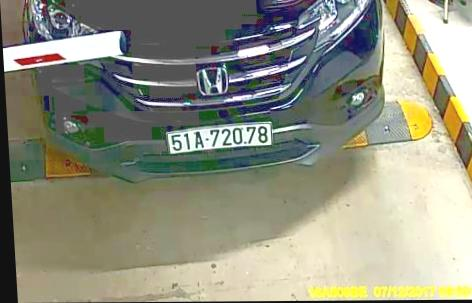License_Plate: (164, 119, 274, 153)
